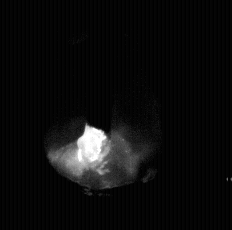arame: (88, 0, 112, 138)
poca: (45, 0, 154, 230)
